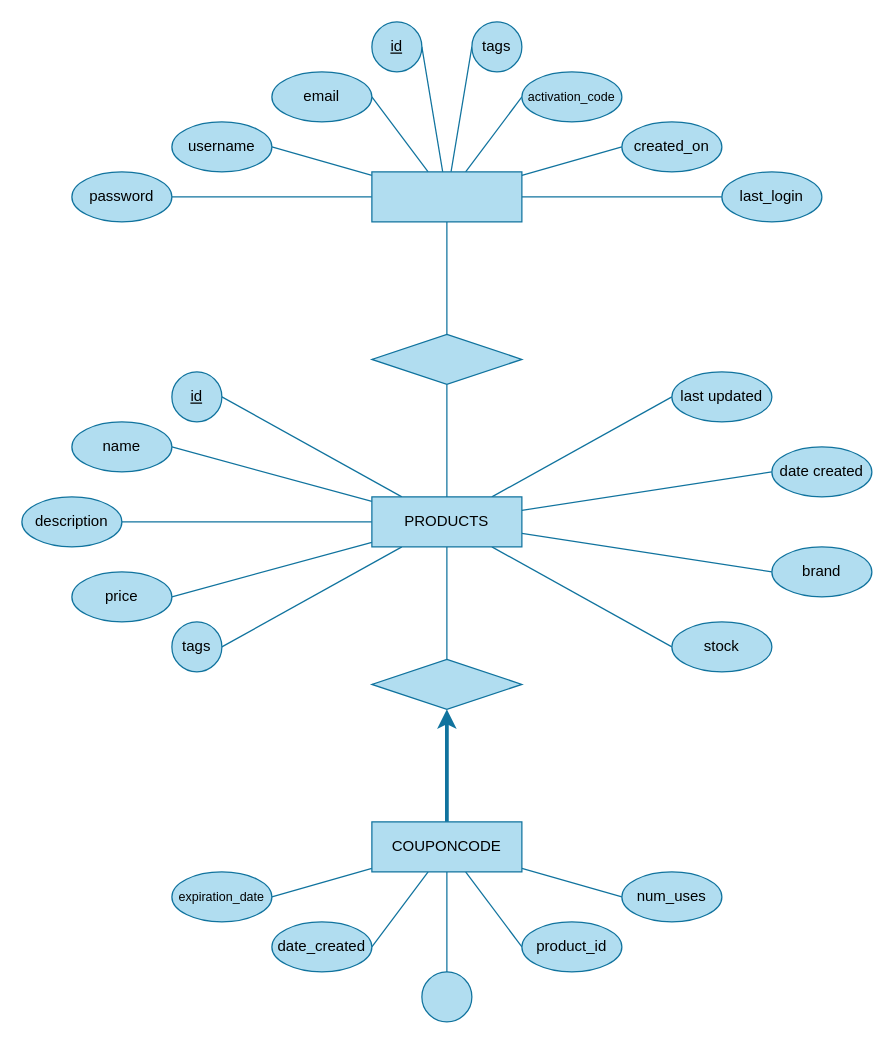
Some shapes in this 894 by 1044 pixel diagram are drawn without their labels. The shapes that lost their labels are listed below. From the top down, each one's centre as x and y in pixels, then its label:
At (x=446, y=196): "USERS".
At (x=446, y=358): "Buy".
At (x=446, y=683): "Applies to".
At (x=446, y=996): "code".
